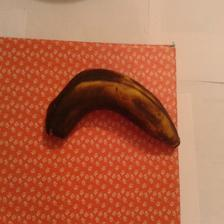Banana Rotten: (32, 61, 186, 157)
